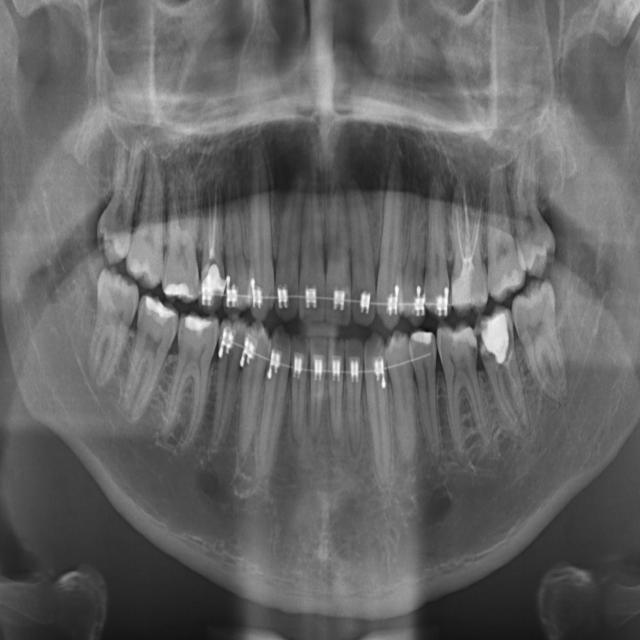CompositeResinRestoration: (481, 297, 512, 366), (449, 274, 490, 315), (144, 296, 178, 340), (442, 325, 477, 359), (160, 274, 194, 307), (182, 311, 218, 341), (408, 325, 435, 355), (200, 278, 224, 307)
DentalCaries: (500, 309, 517, 389), (478, 319, 493, 402), (465, 323, 481, 388)
ImpactedTooth: (86, 260, 141, 388)
RootCanalTreatment: (448, 173, 489, 274), (199, 168, 223, 272)
